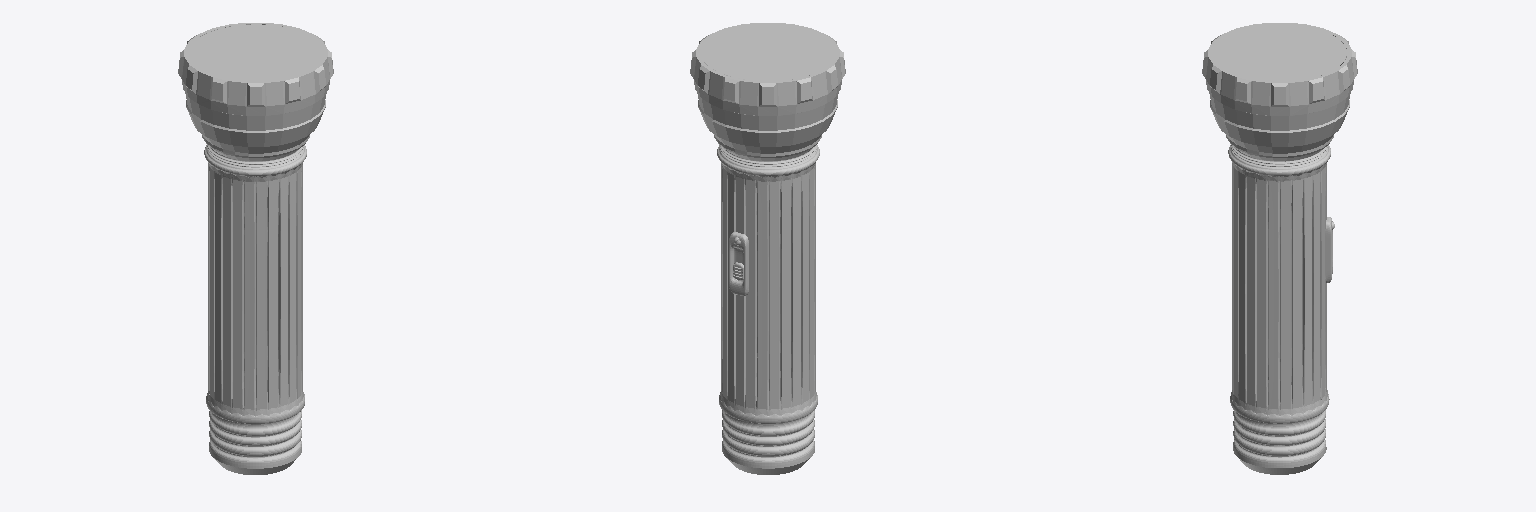
Rendered from linterna export.obj.
3 views of the same model, side by side, from view 1: azimuth 30°, elevation 25°; view 2: azimuth 150°, elevation 25°; view 3: azimuth 270°, elevation 25° (orthographic).
Visible parts, largest first — view 1: Mesh (4); view 2: Mesh (4); view 3: Mesh (4).
Boxes of the visible parts, box(x1,y1,x2,y2) form: Mesh (4): box(178, 23, 333, 474); Mesh (4): box(690, 23, 845, 474); Mesh (4): box(1202, 23, 1357, 474).
Bounding box in the file's own units: 0.6011 × 1.74 × 0.6011.